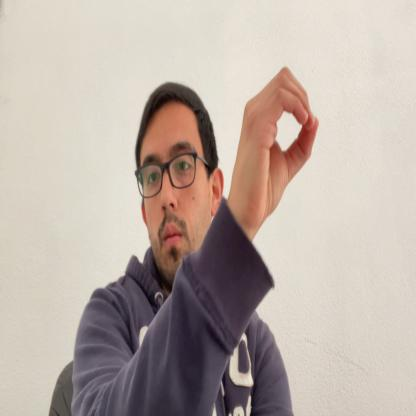O: (235, 61, 320, 231)
